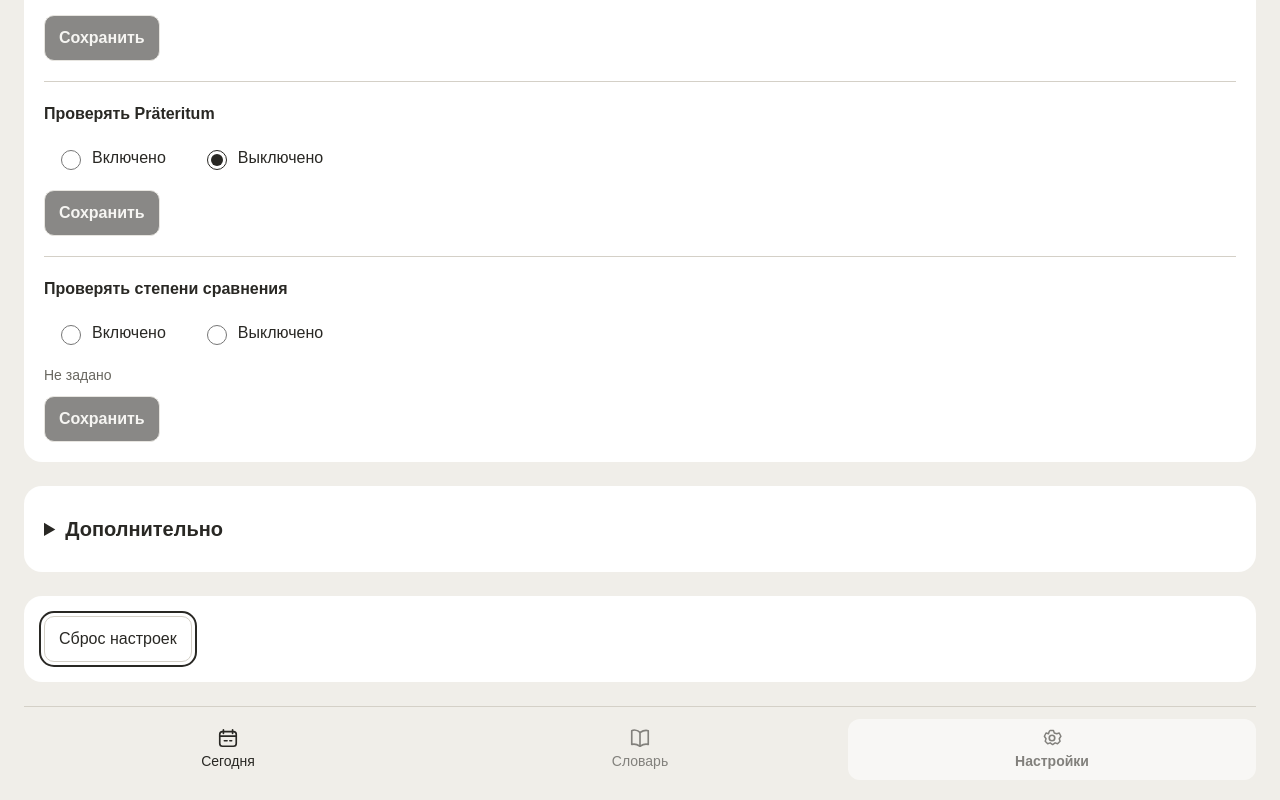
Test: returning the initial settings (M-SET-RESET, D-SET-RESET 4.1, 5.3.1) › closes on cancel without a command and returns focus to the button
(page scrolled)
Step 1. Click the button "Сброс настроек" → coordinates (118, 639), box 44,616 -> 192,662
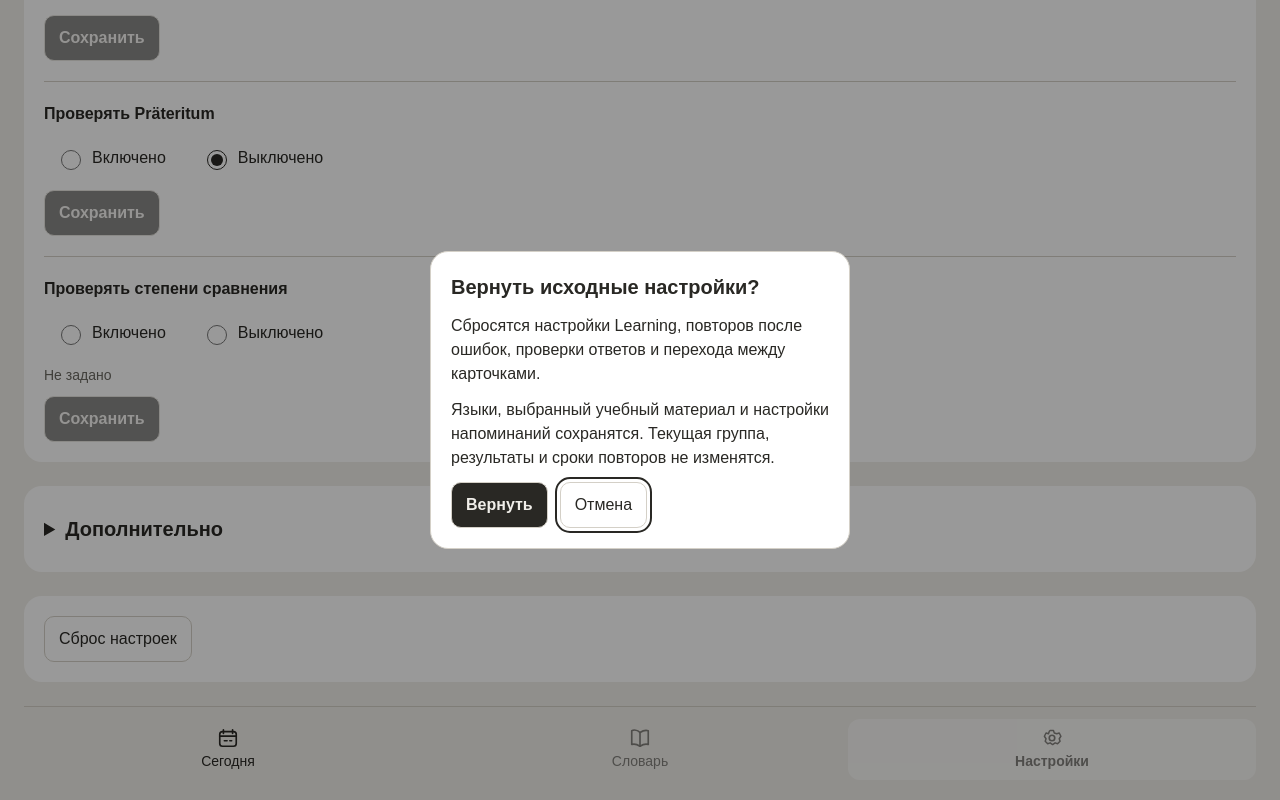
Step 2. Click the button "Отмена" → coordinates (603, 505), box 560,482 -> 647,528
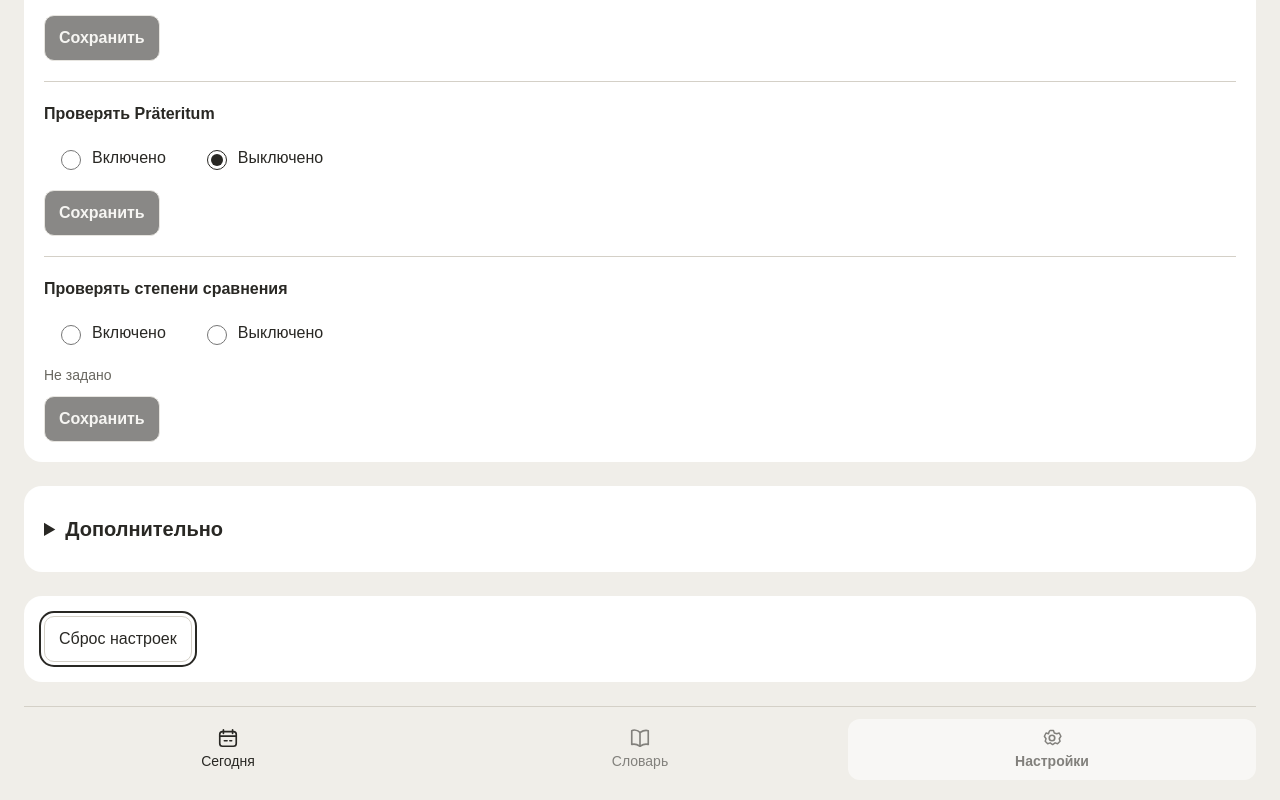
Expected: the dialog is gone
